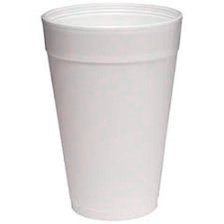paper_cup: (34, 0, 188, 224)
